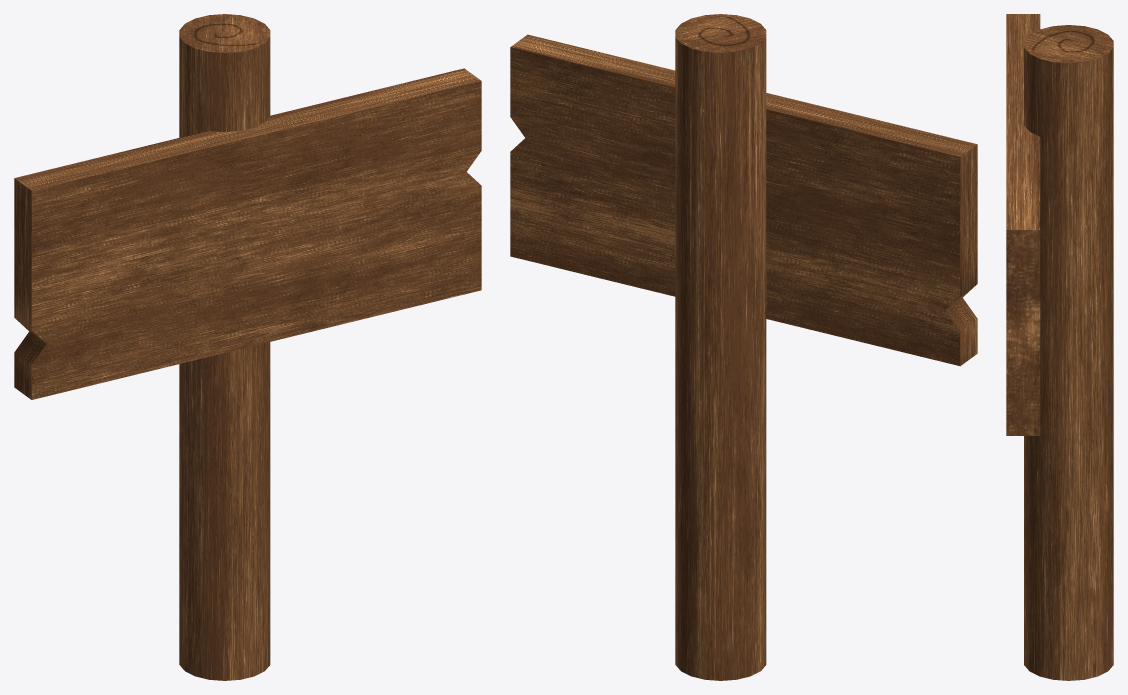
Rendered from wooden-sign.glb.
3 renders of one model, left to right at view 1: azimuth 30°, elevation 25°; view 2: azimuth 150°, elevation 25°; view 3: azimuth 270°, elevation 25°, orthographic.
Visible parts, largest first — view 1: sign, stick; view 2: sign, stick; view 3: stick, sign.
Part boxes in pixels (x1=…): sign: x1=14, y1=68, x2=481, y2=399; stick: x1=179, y1=14, x2=270, y2=680; sign: x1=510, y1=34, x2=977, y2=366; stick: x1=675, y1=14, x2=766, y2=680; stick: x1=1024, y1=25, x2=1113, y2=680; sign: x1=1006, y1=14, x2=1040, y2=435.
Size of the model in its own units: 1.61 by 2.14 by 0.3371.
1 material, 1 textured.
